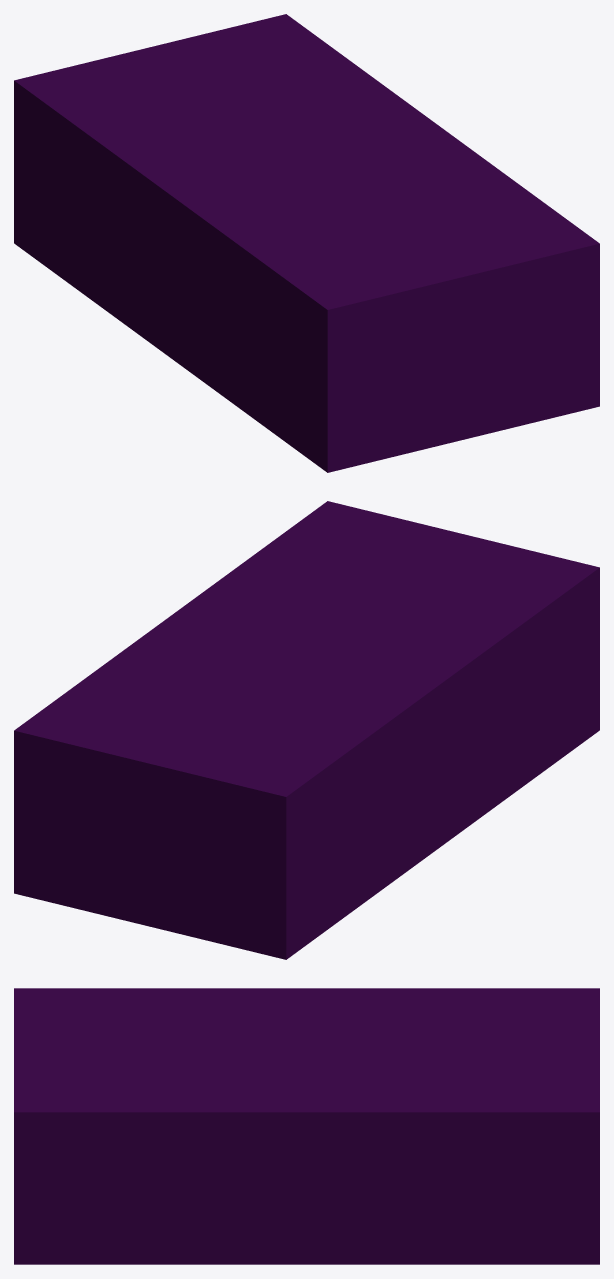
Rendered from estrade.glb.
The picture shows the model from 3 angles, top to bottom: view 1: azimuth 30°, elevation 25°; view 2: azimuth 150°, elevation 25°; view 3: azimuth 270°, elevation 25°; orthographic projection. The views are drawn at different scales.
Visible parts, largest first — view 1: Salle; view 2: Salle; view 3: Salle.
Boxes of the visible parts, x1=… form: Salle: x1=14, y1=14, x2=599, y2=472; Salle: x1=14, y1=501, x2=599, y2=959; Salle: x1=14, y1=988, x2=599, y2=1264.
Size of the model in its own units: 20.1 by 11.49 by 40.1.
